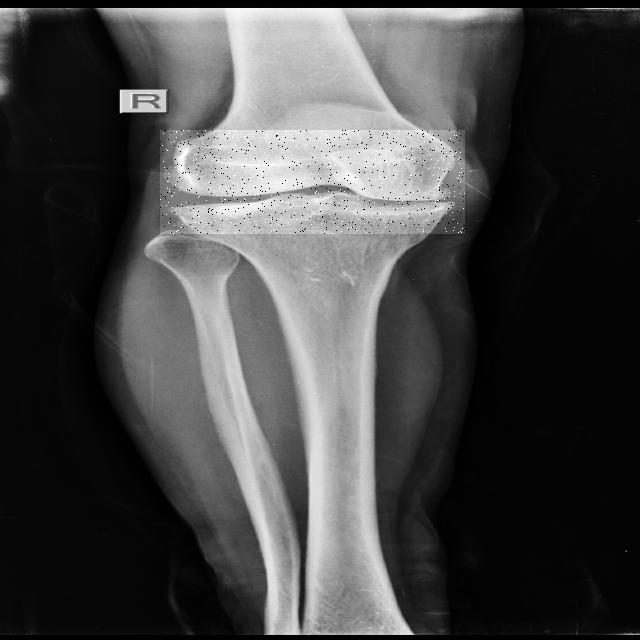normal: (160, 130, 465, 234)
